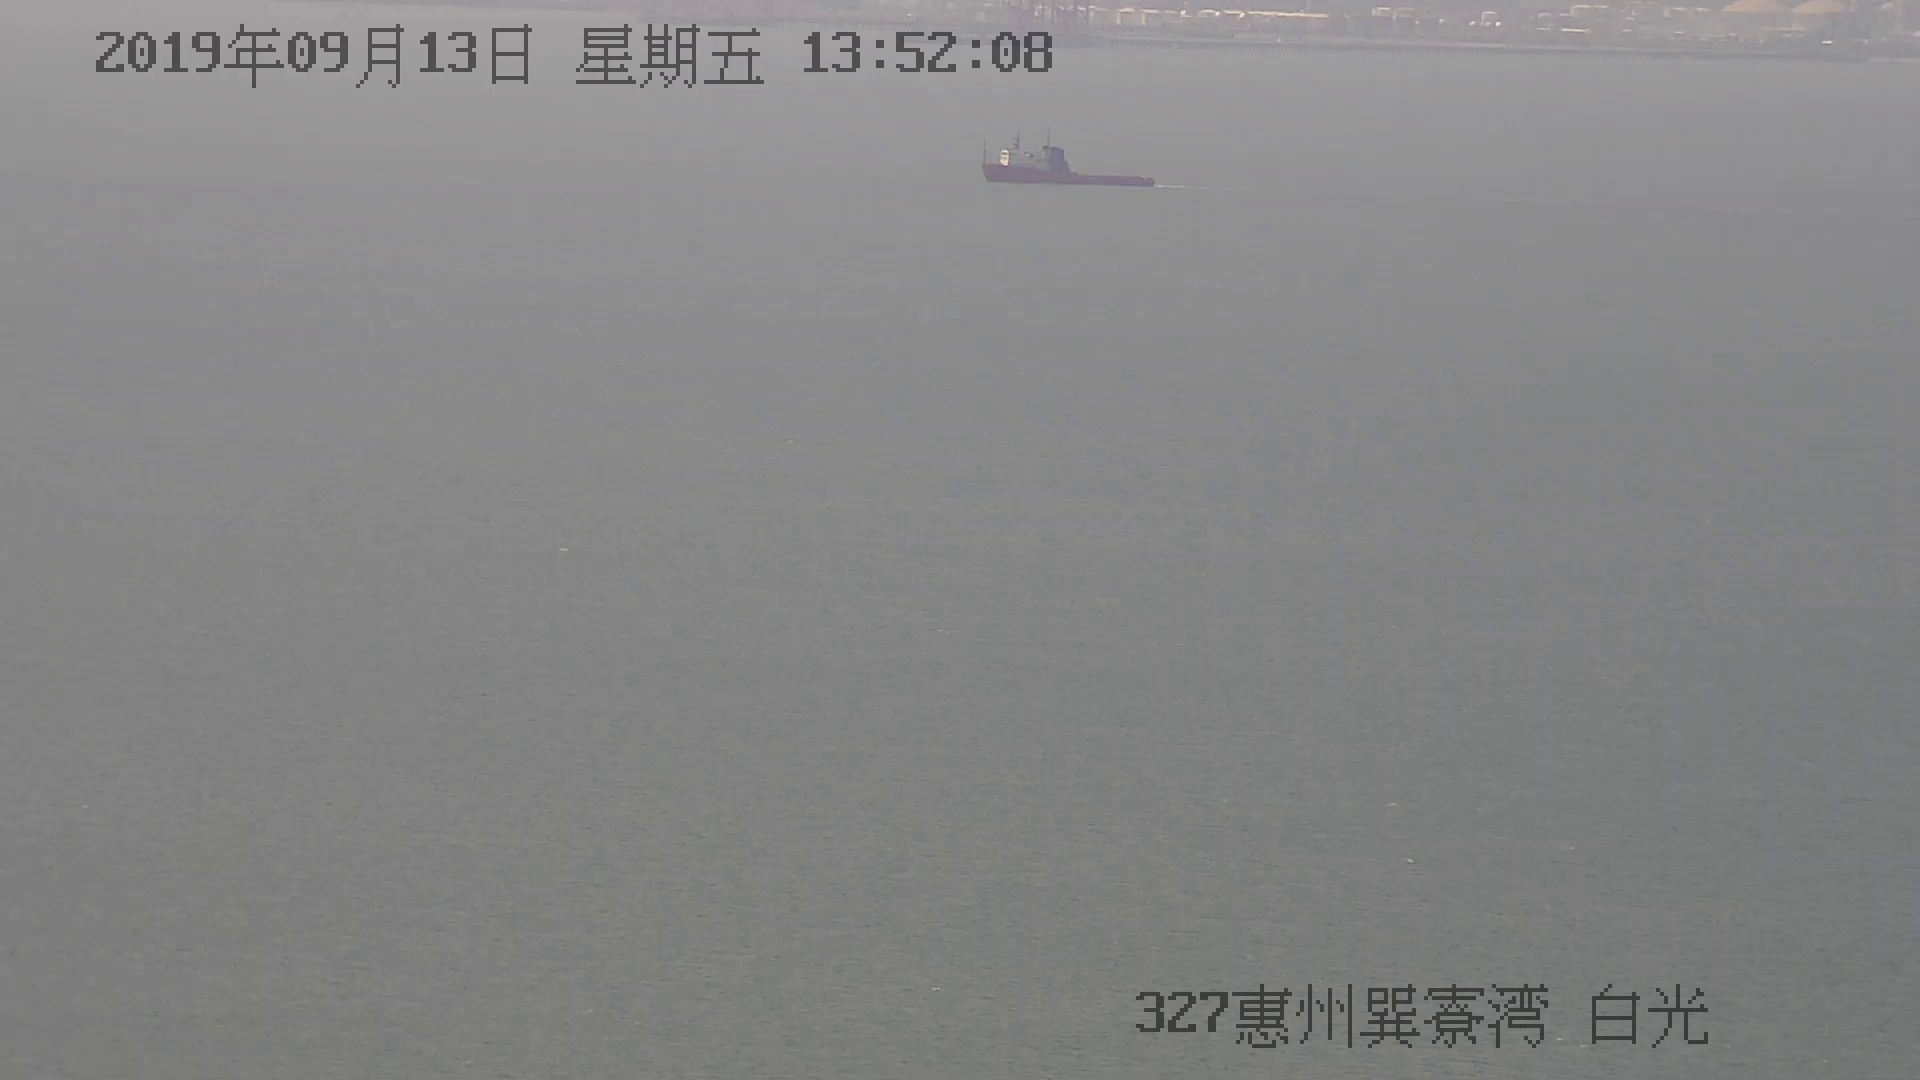ship: (985, 125, 1154, 191)
